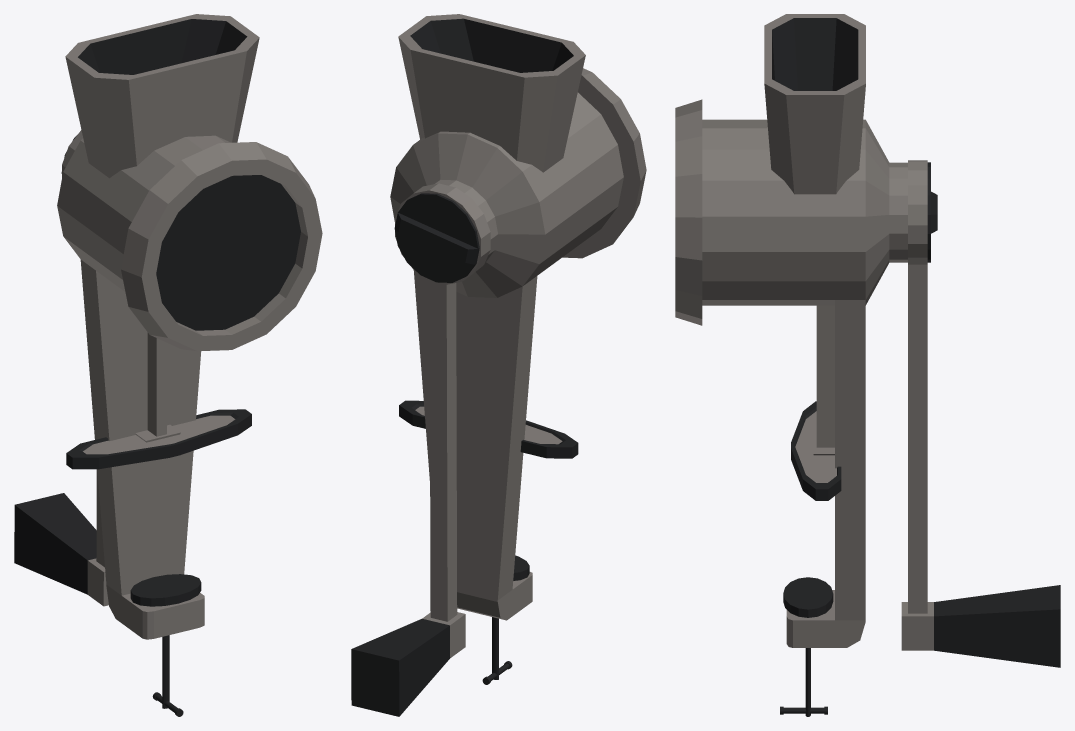
Rendered from manualmeatgrinder_01.gltf.
3 views of the same model, side by side, from view 1: azimuth 30°, elevation 25°; view 2: azimuth 150°, elevation 25°; view 3: azimuth 270°, elevation 25° (orthographic). The views are drawn at different scales.
Visible parts, largest first — view 1: manualmeatgrinder_01, manualmeatgrinder_01.001; view 2: manualmeatgrinder_01, manualmeatgrinder_01.001; view 3: manualmeatgrinder_01, manualmeatgrinder_01.001.
Part boxes in pixels (x1,y1,x2,y2): manualmeatgrinder_01: (57, 14, 322, 716); manualmeatgrinder_01.001: (14, 130, 108, 606); manualmeatgrinder_01: (390, 14, 646, 684); manualmeatgrinder_01.001: (351, 183, 490, 716); manualmeatgrinder_01: (675, 14, 937, 716); manualmeatgrinder_01.001: (901, 160, 1060, 667).
Size of the model in its own units: 0.1472 by 0.4734 by 0.25.
1 material, 1 textured.
